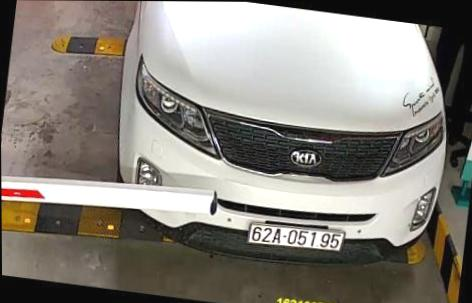License_Plate: (245, 212, 346, 265)
